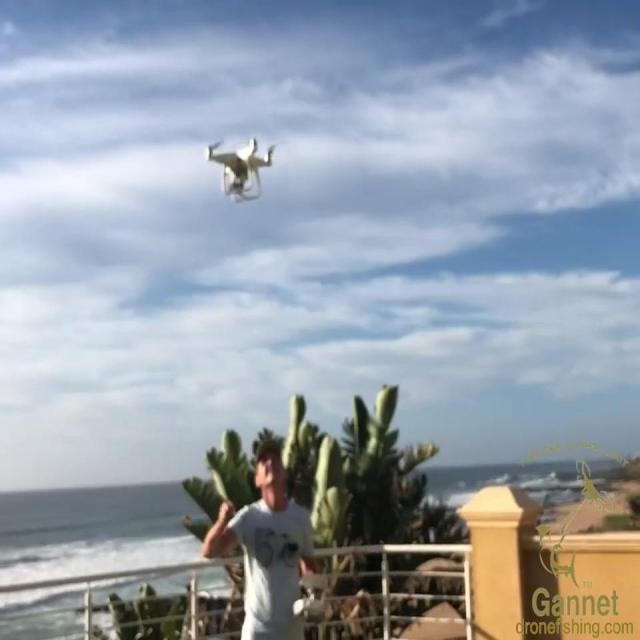drone: (206, 132, 277, 206)
